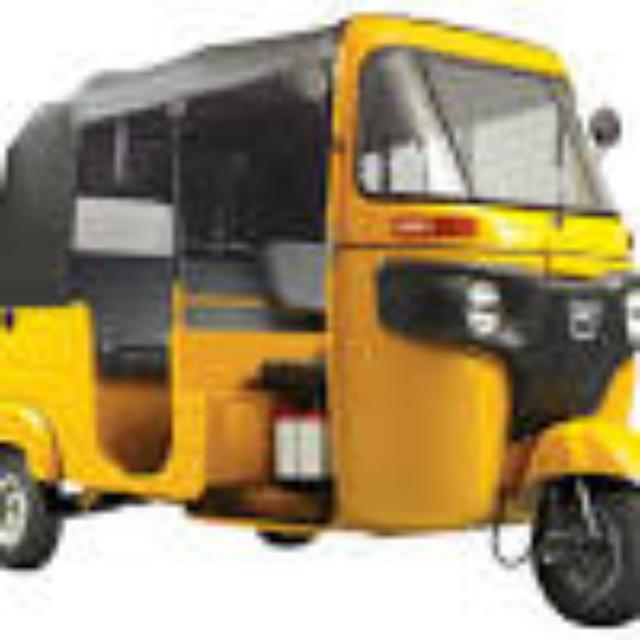person: (1, 26, 630, 640)
